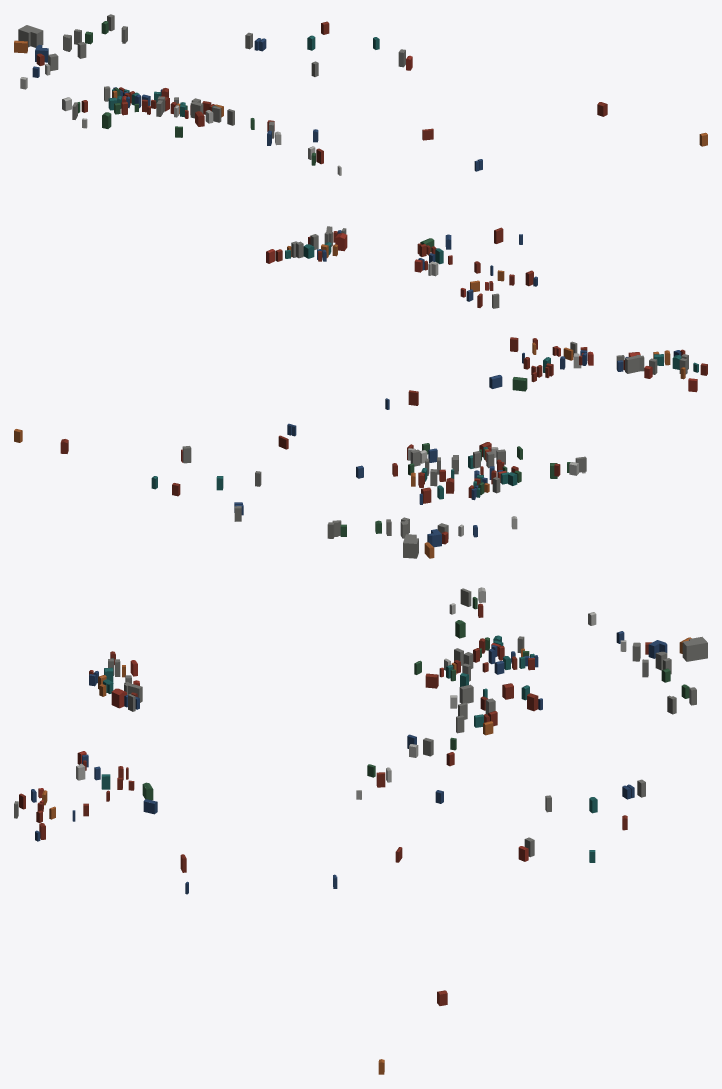
The model's file is near-15-27364-14864.ae262485.glb.
3 views of the same model, one above another, from view 1: azimuth 30°, elevation 25°; view 2: azimuth 150°, elevation 25°; view 3: azimuth 270°, elevation 25° (orthographic). The views are drawn at different scales.
Bounding box in the file's own units: 1087 × 273 × 1006.
